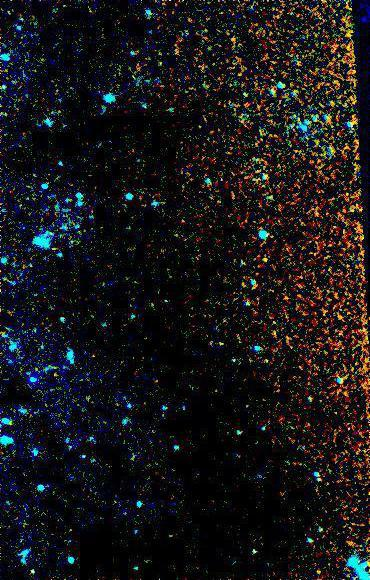star: (251, 243, 281, 273)
